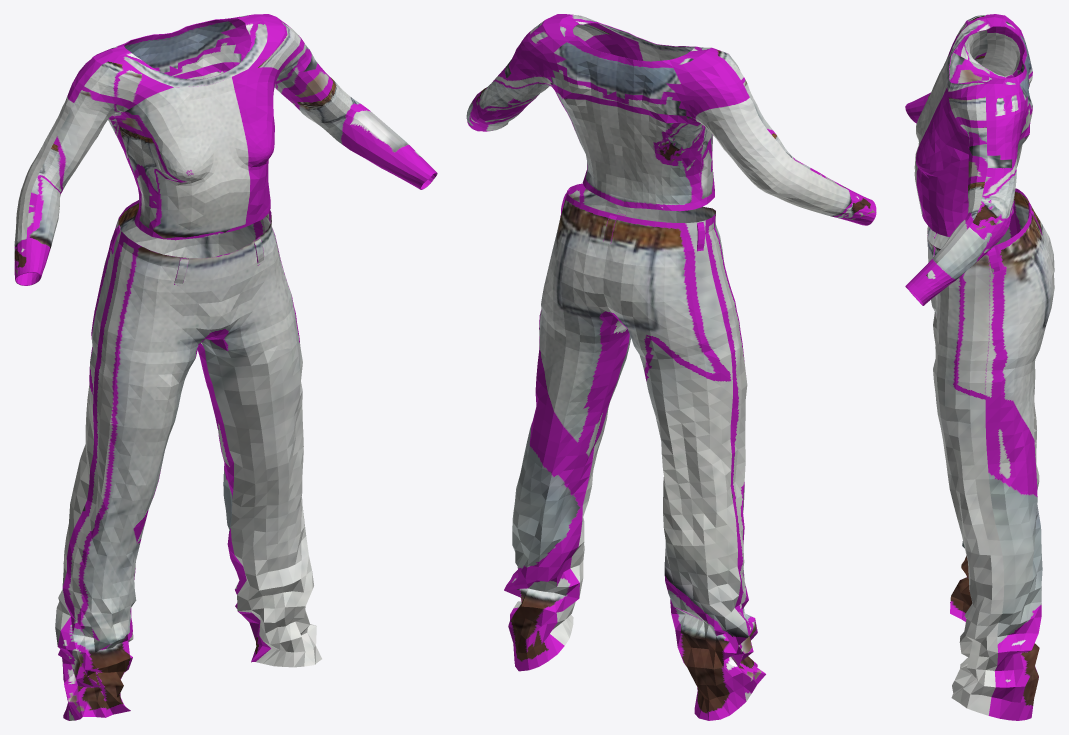
The picture shows the model from 3 angles, left to right: view 1: azimuth 30°, elevation 25°; view 2: azimuth 150°, elevation 25°; view 3: azimuth 270°, elevation 25°; orthographic projection. The views are drawn at different scales.
Size of the model in its own units: 0.5261 by 0.798 by 0.1725.
Materials: 1 (1 with a texture image).
